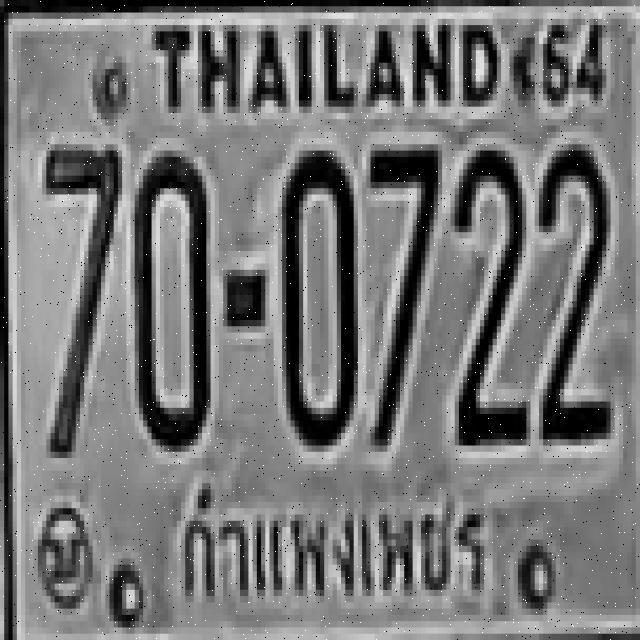0: (132, 150, 208, 446), (278, 148, 354, 442)
2: (534, 138, 610, 439), (450, 144, 522, 440), (534, 141, 606, 417), (450, 141, 522, 417)
7: (44, 144, 120, 452), (366, 144, 438, 440), (44, 144, 120, 352), (366, 144, 438, 332)
KamphaengPhet: (163, 472, 489, 605)
